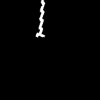half_double_crochet: (36, 0, 44, 36)
